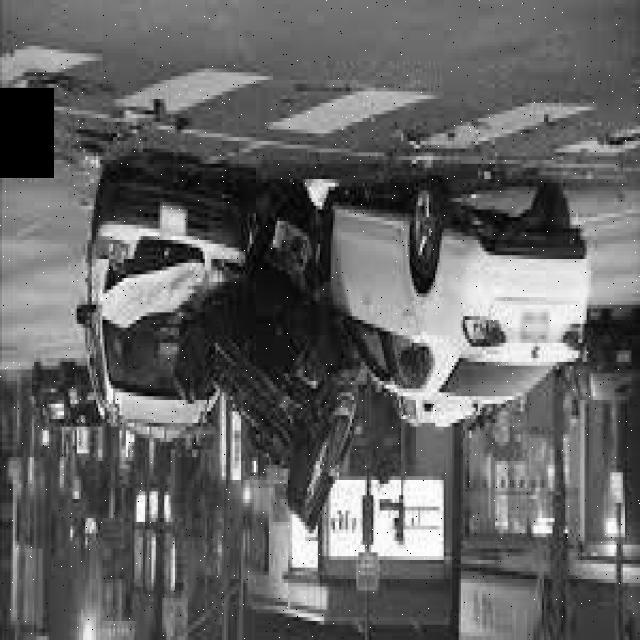severe: (80, 179, 590, 530)
